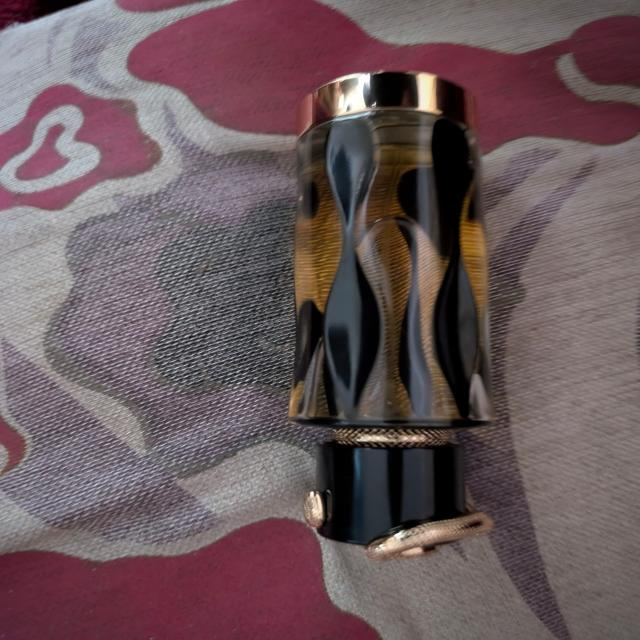Teriaq-Intense: (285, 68, 499, 558)
